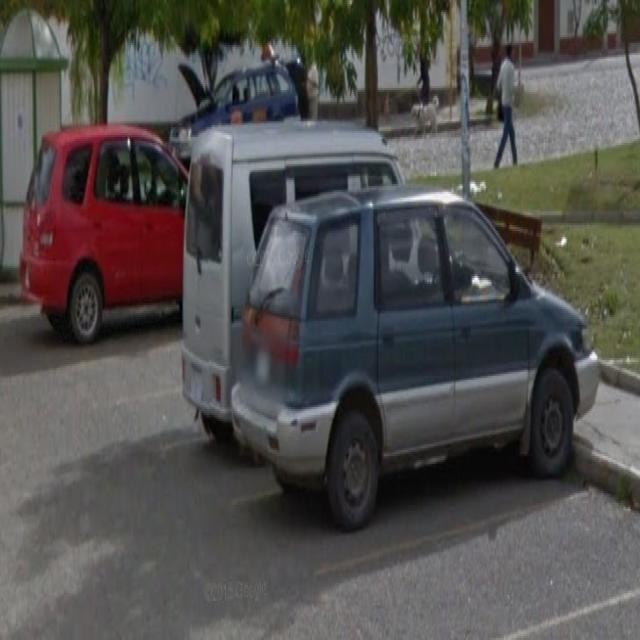Car: (270, 217, 607, 517), (23, 131, 184, 329), (194, 133, 258, 434)
